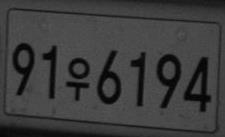1: (126, 51, 153, 106), (40, 45, 65, 99)
4: (182, 56, 212, 113)
6: (96, 49, 122, 105)
9: (156, 52, 182, 109), (11, 42, 36, 96)
우: (65, 56, 90, 101)
